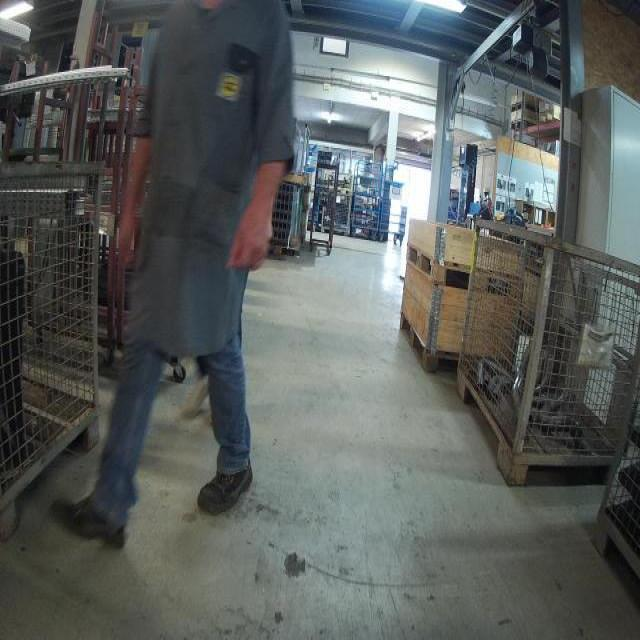pallet: (397, 310, 516, 377), (405, 243, 524, 303), (509, 103, 540, 114), (510, 119, 535, 132)
stillage: (458, 207, 639, 488), (2, 158, 106, 544), (590, 316, 640, 606), (317, 188, 354, 238)
